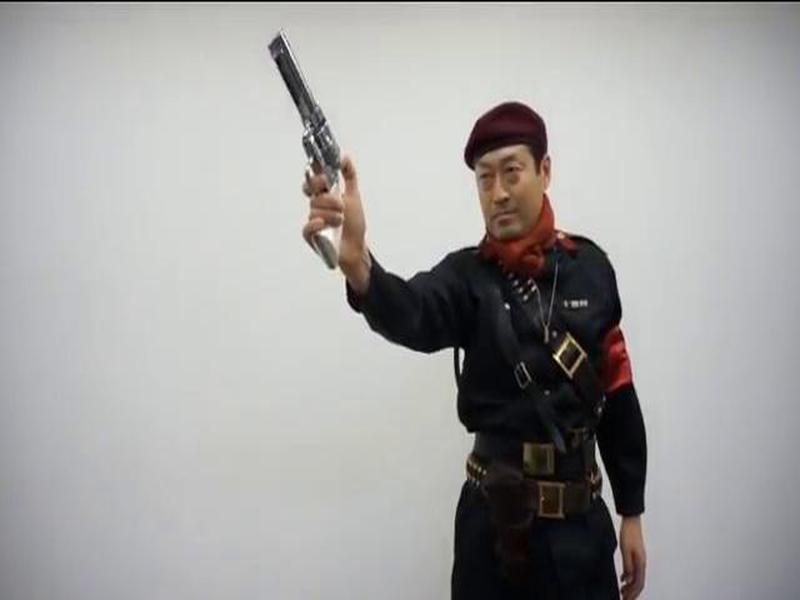Revolver: (253, 22, 353, 274)
